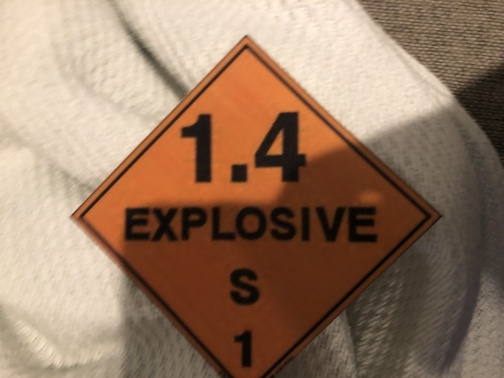Explosive: (68, 35, 441, 370)
